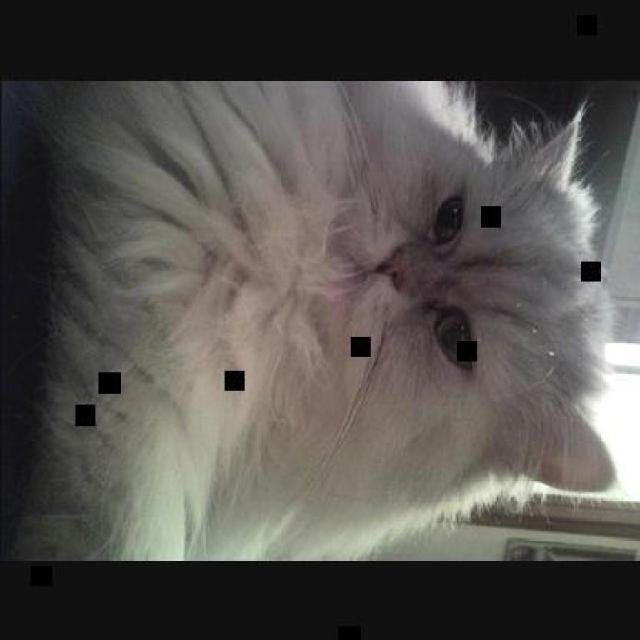unauthorized: (4, 77, 636, 560)
